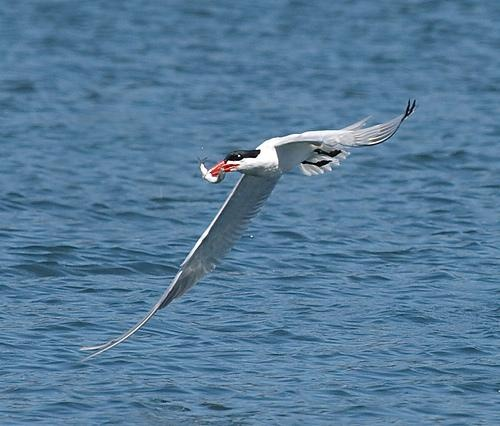bird: (83, 94, 423, 364)
